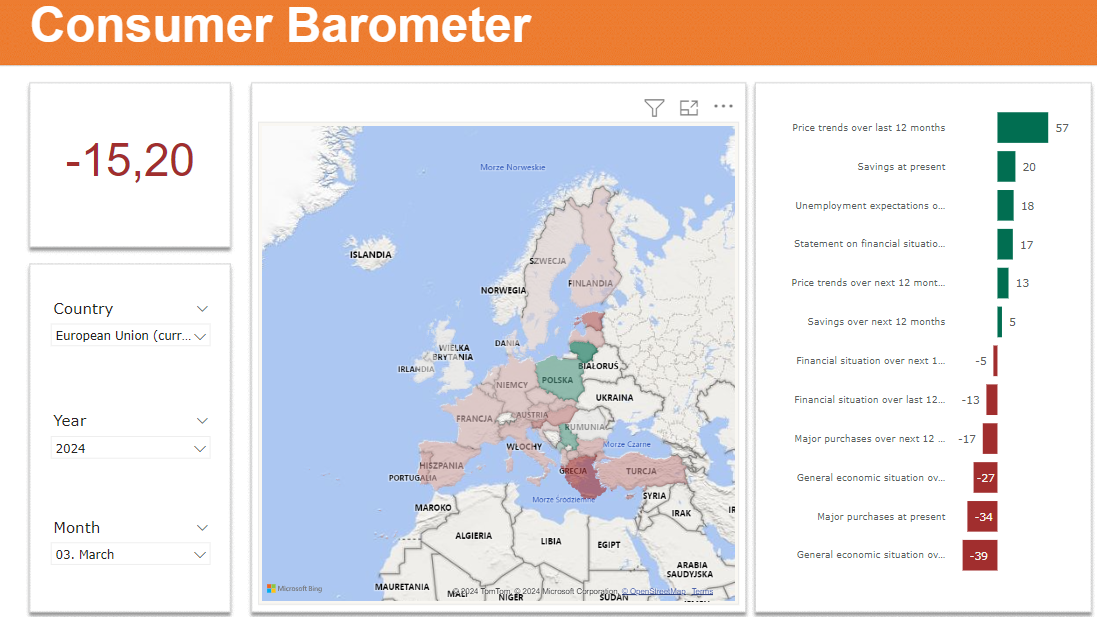

The dashboard page shown, as its layout file describes it:
{"tool":"powerbi","page":{"name":"Barometer","canvas":[1280,720],"ordinal":1},"visuals":[{"type":"textbox","box":[48,0,1107.1,96],"z":0},{"type":"slicer","fields":{"Values":["Dane.Rok"]},"box":[67.2,472.8,203,79.6],"z":1000},{"type":"slicer","fields":{"Values":["Kraje.Kraj"]},"box":[67.2,343.8,203,79.6],"z":2000},{"type":"barChart","fields":{"Category":["Tabela.Indeks"],"Y":["Sum(Dane.Wartość)"]},"box":[883.5,105.6,382.8,594],"z":3000},{"type":"card","fields":{"Values":["Sum(Dane.Wartość)"]},"box":[23.3,116.6,290.8,139.9],"z":4000},{"type":"filledMap","fields":{"Category":["Kraje.Kraj"]},"box":[314.2,146.8,550.1,552.9],"z":5000},{"type":"slicer","fields":{"Values":["Miesiące.Month"]},"box":[67.2,594,203,79.6],"z":6000}]}

Visuals, with their boxes in screenshot pixels (x1, y1, x2, y2), scaled from the page's 1280x720 canvas onto the 1097x617 screenshot:
textbox: bbox=(41, 0, 990, 82)
slicer - Dane.Rok: bbox=(58, 405, 232, 473)
slicer - Kraje.Kraj: bbox=(58, 295, 232, 363)
barChart - Tabela.Indeks x Sum(Dane.Wartość): bbox=(757, 90, 1085, 600)
card - Sum(Dane.Wartość): bbox=(20, 100, 269, 220)
filledMap - Kraje.Kraj: bbox=(269, 126, 741, 600)
slicer - Miesiące.Month: bbox=(58, 509, 232, 577)
